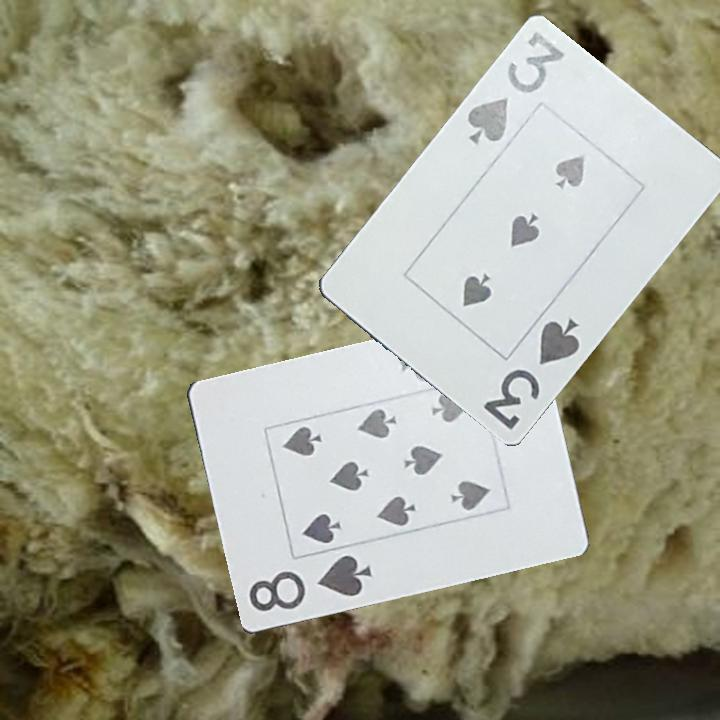3s: (463, 26, 568, 147), (479, 314, 583, 432)
8s: (245, 552, 375, 616)
